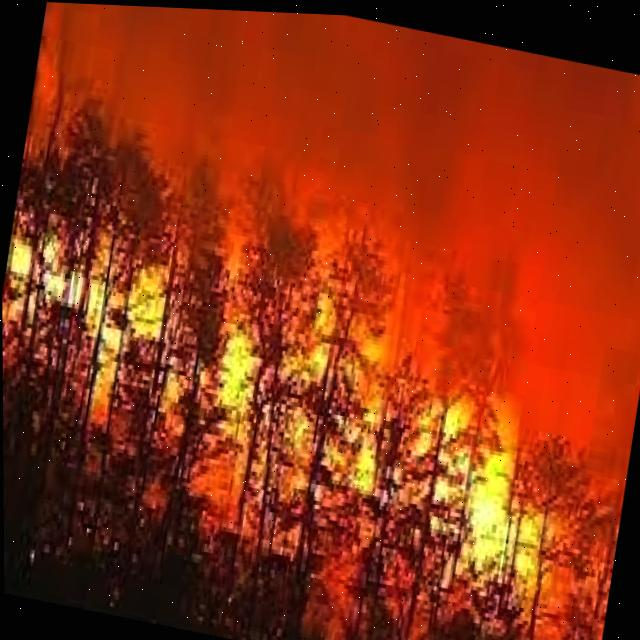fire: (440, 410, 530, 586), (213, 343, 256, 425)
smoke: (27, 2, 640, 249), (386, 203, 640, 426)
